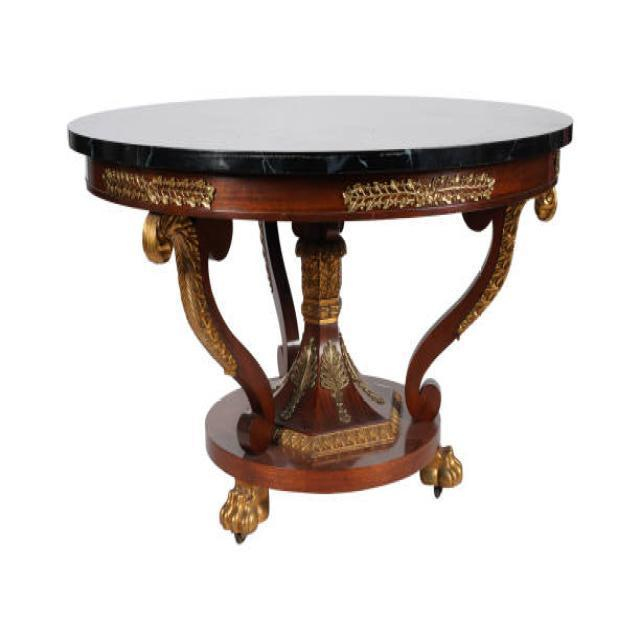table: (67, 92, 573, 542)
